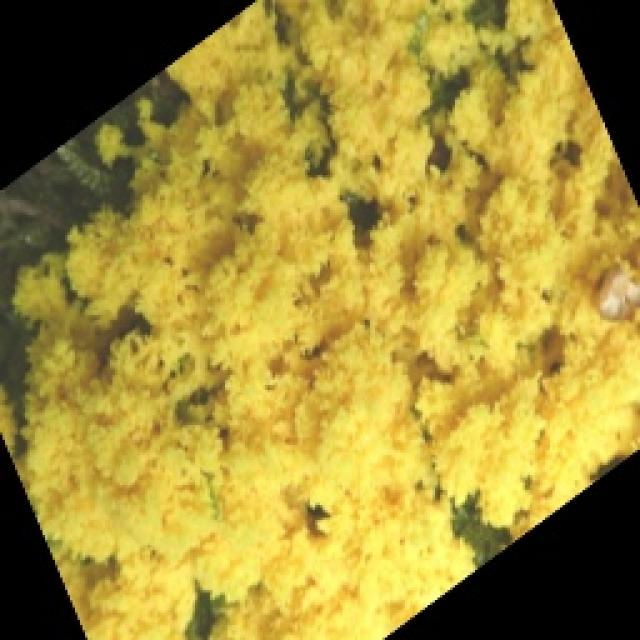Dog_vomit_slime_mold: (2, 7, 639, 640)
